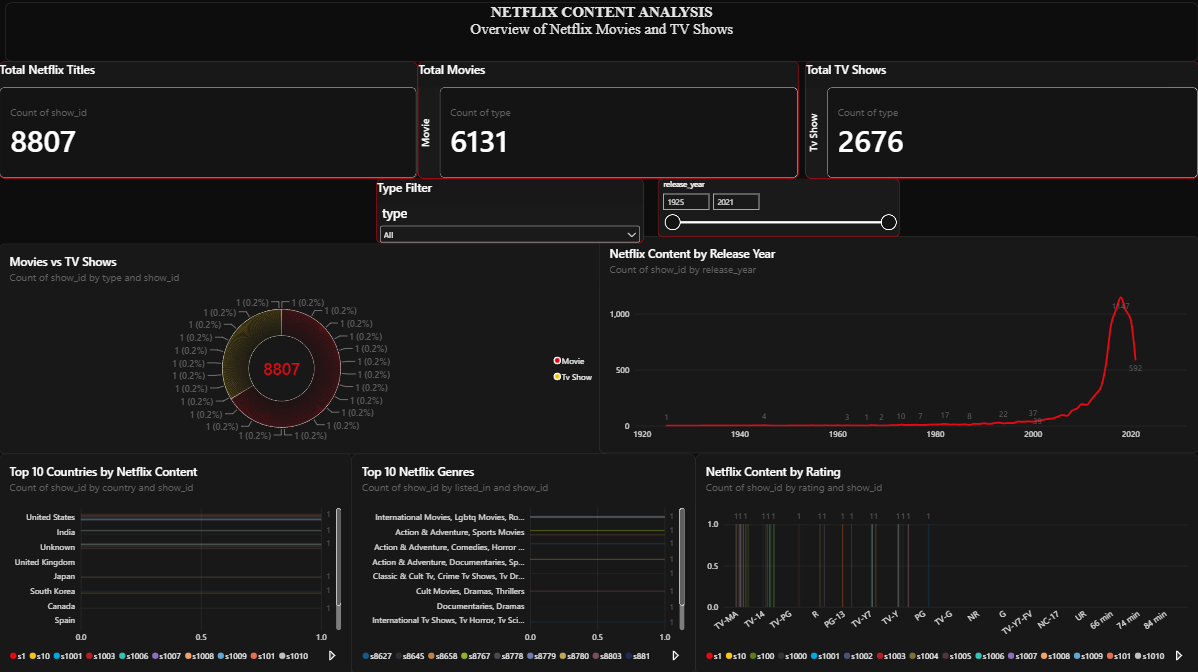

The page's visual inventory and layout, read from the dashboard file:
{"tool":"powerbi","page":{"name":"Netflix Overview","canvas":[1920,1080],"ordinal":0},"visuals":[{"type":"cardVisual","title":"Total Netflix Titles","fields":{"Data":["CountNonNull(netflix_cleaned.show_id)"]},"box":[0,97.7,669.6,188.2],"z":0},{"type":"cardVisual","title":"Total Movies","fields":{"Data":["CountNonNull(netflix_cleaned.type)"],"Rows":["netflix_cleaned.type"]},"box":[669.6,97.7,609.9,188.2],"z":1000},{"type":"cardVisual","title":"Total TV Shows","fields":{"Data":["CountNonNull(netflix_cleaned.type)"],"Rows":["netflix_cleaned.type"]},"box":[1290.3,97.7,629.8,188.2],"z":2000},{"type":"donutChart","title":"Movies vs TV Shows","fields":{"Category":["netflix_cleaned.type"],"Series":["netflix_cleaned.show_id"],"Y":["CountNonNull(netflix_cleaned.show_id)"]},"box":[0,389.1,975.4,336.6],"z":3000},{"type":"lineChart","title":"Netflix Content by Release Year","fields":{"Category":["netflix_cleaned.release_year"],"Y":["CountNonNull(netflix_cleaned.show_id)"]},"box":[959.1,378.2,960.9,347.5],"z":4000},{"type":"clusteredBarChart","title":"Top 10 Netflix Genres","fields":{"Category":["netflix_cleaned.listed_in"],"Series":["netflix_cleaned.show_id"],"Y":["CountNonNull(netflix_cleaned.show_id)"]},"box":[564.6,725.7,550.1,354.7],"z":5000},{"type":"clusteredColumnChart","title":"Netflix Content by Rating","fields":{"Category":["netflix_cleaned.rating"],"Series":["netflix_cleaned.show_id"],"Y":["CountNonNull(netflix_cleaned.show_id)"]},"box":[1114.8,725.7,805.3,354.7],"z":6000},{"type":"clusteredBarChart","title":"Top 10 Countries by Netflix Content","fields":{"Category":["netflix_cleaned.country"],"Series":["netflix_cleaned.show_id"],"Y":["CountNonNull(netflix_cleaned.show_id)"]},"box":[0,725.7,564.6,354.7],"z":7000},{"type":"slicer","title":"Type Filter","fields":{"Values":["netflix_cleaned.type"]},"box":[604.4,285.9,427.1,103.2],"z":8000},{"type":"textbox","box":[10.9,3.6,1909.2,94.1],"z":9000},{"type":"slicer","fields":{"Values":["netflix_cleaned.release_year"]},"box":[1053.2,285.9,387,92.6],"z":10000}]}

Visuals, with their boxes in screenshot pixels (x1, y1, x2, y2), scaled from the page's 1920x1080 canvas onto the 1198x672 screenshot:
"Total Netflix Titles" cardVisual: <box>0,61,418,178</box>
"Total Movies" cardVisual: <box>418,61,798,178</box>
"Total TV Shows" cardVisual: <box>805,61,1197,178</box>
"Movies vs TV Shows" donutChart: <box>0,242,609,452</box>
"Netflix Content by Release Year" lineChart: <box>598,235,1197,452</box>
"Top 10 Netflix Genres" clusteredBarChart: <box>352,452,696,671</box>
"Netflix Content by Rating" clusteredColumnChart: <box>696,452,1197,671</box>
"Top 10 Countries by Netflix Content" clusteredBarChart: <box>0,452,352,671</box>
"Type Filter" slicer: <box>377,178,644,242</box>
textbox: <box>7,2,1197,61</box>
slicer - netflix_cleaned.release_year: <box>657,178,899,236</box>
